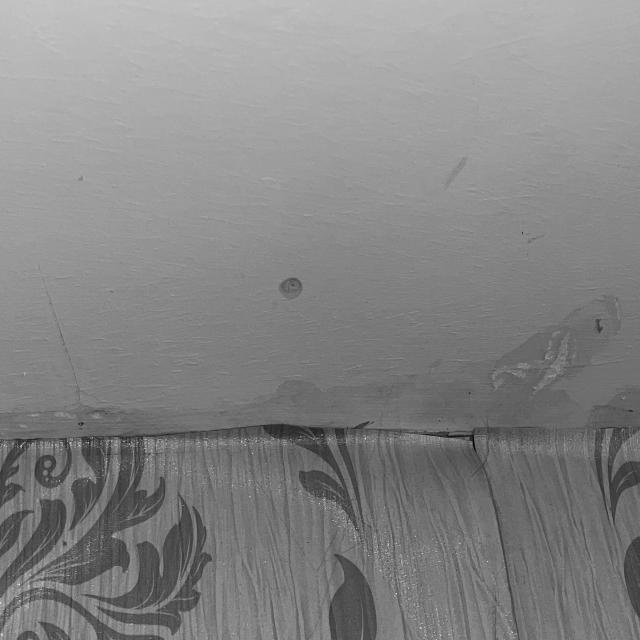stain marks: (485, 287, 640, 437), (244, 350, 491, 440), (0, 390, 243, 446), (434, 148, 489, 195), (64, 174, 96, 192)
